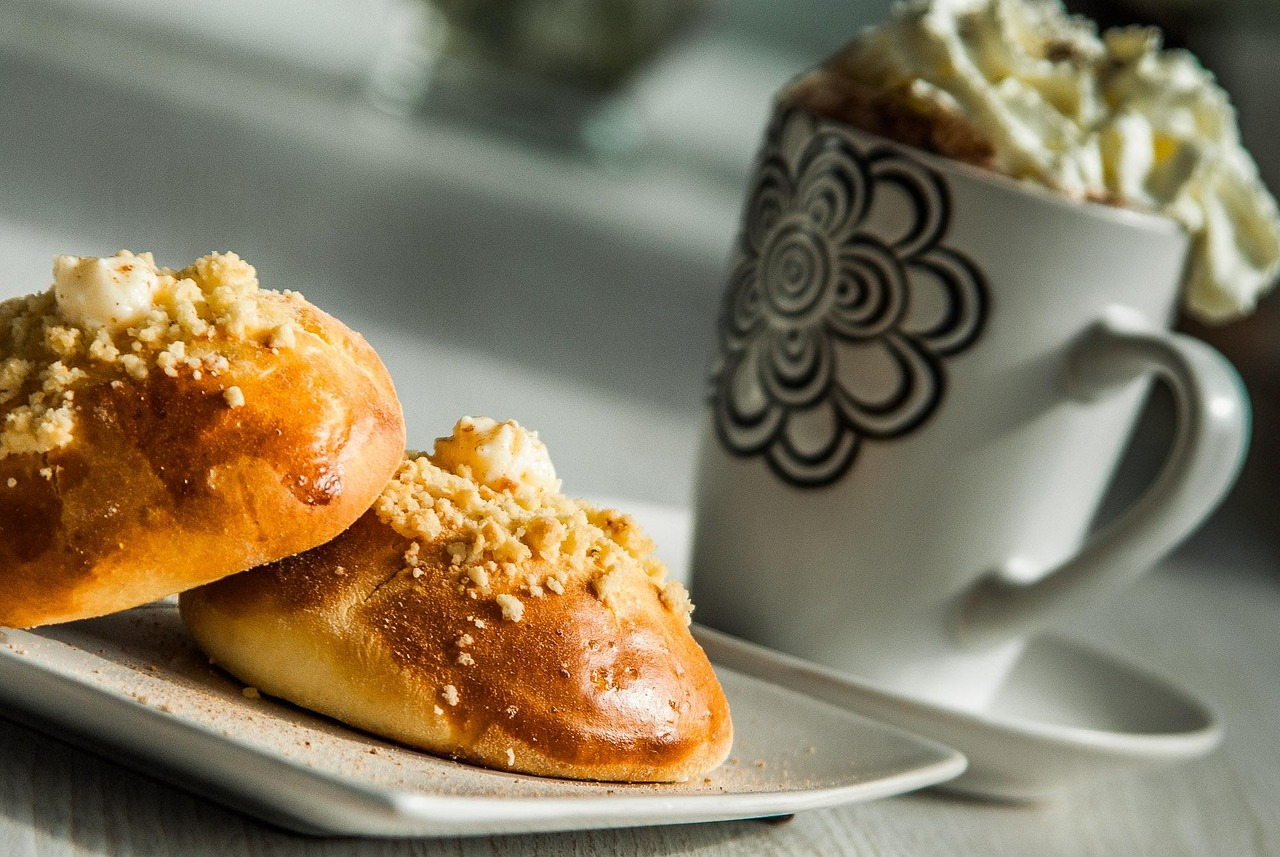mug: (679, 61, 1266, 772)
